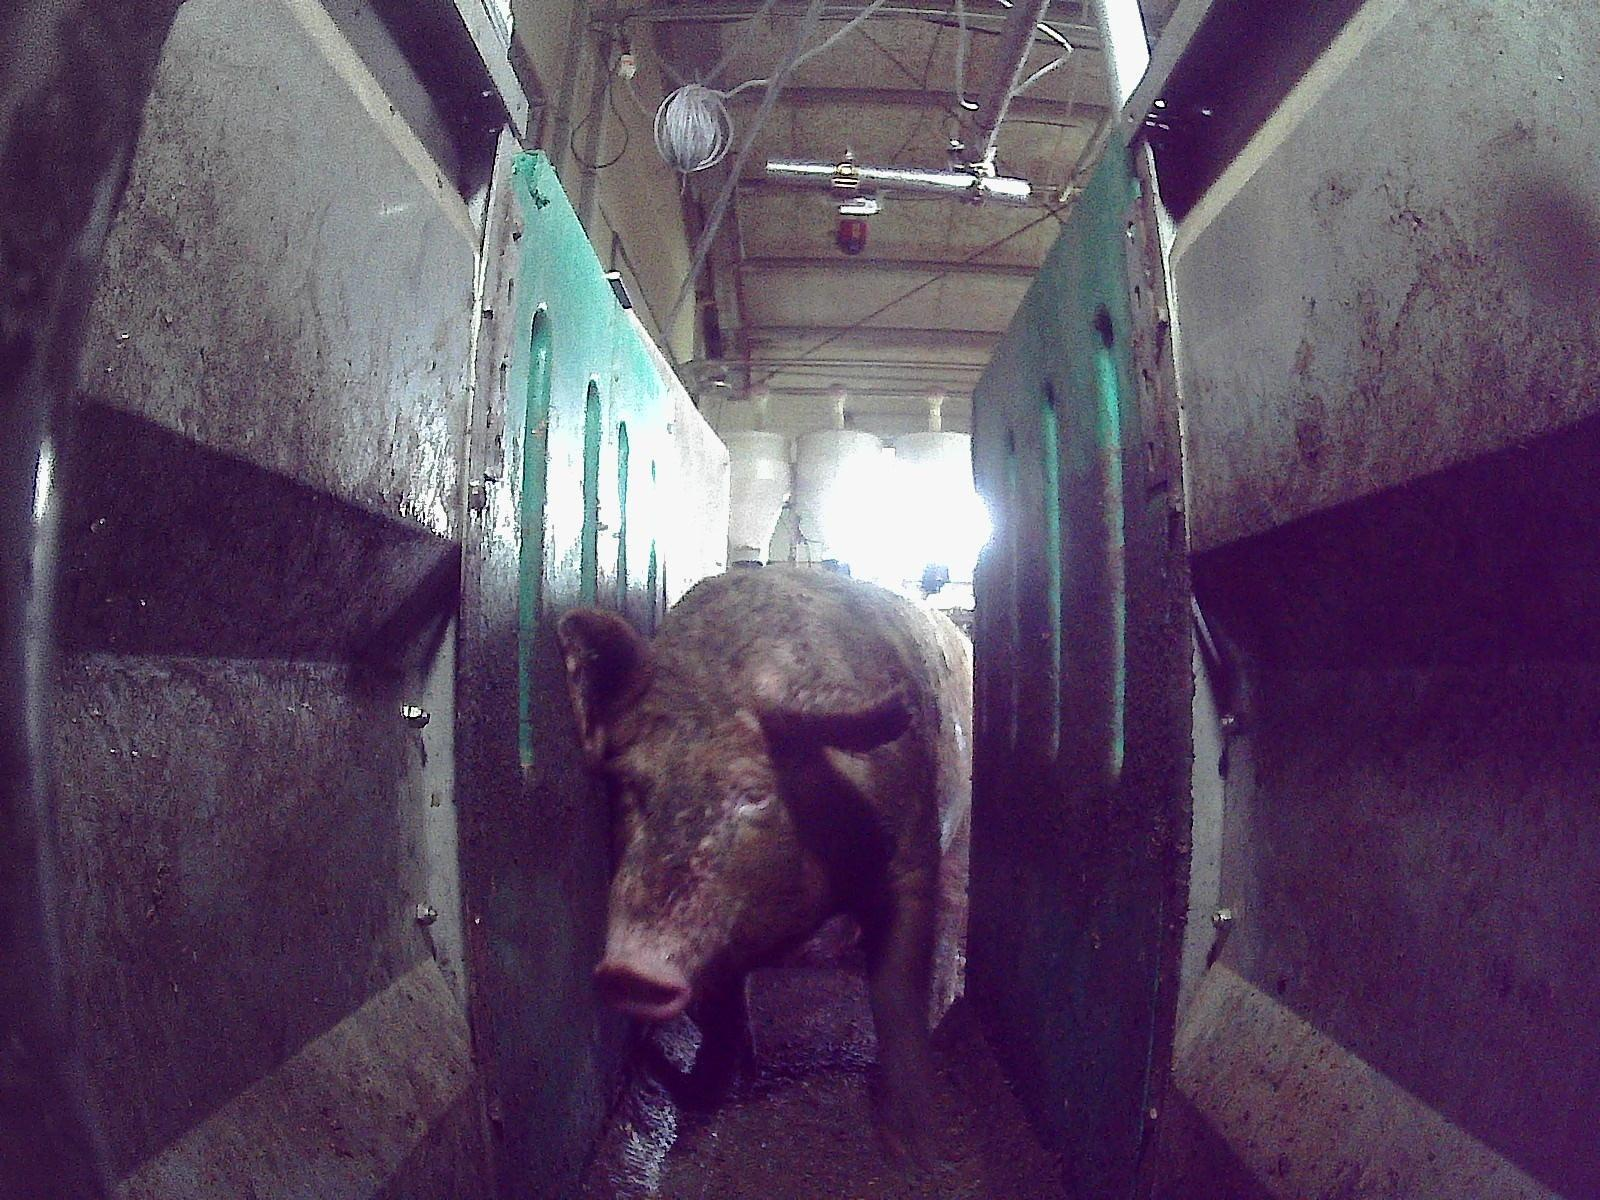Face: (594, 670, 811, 1018)
